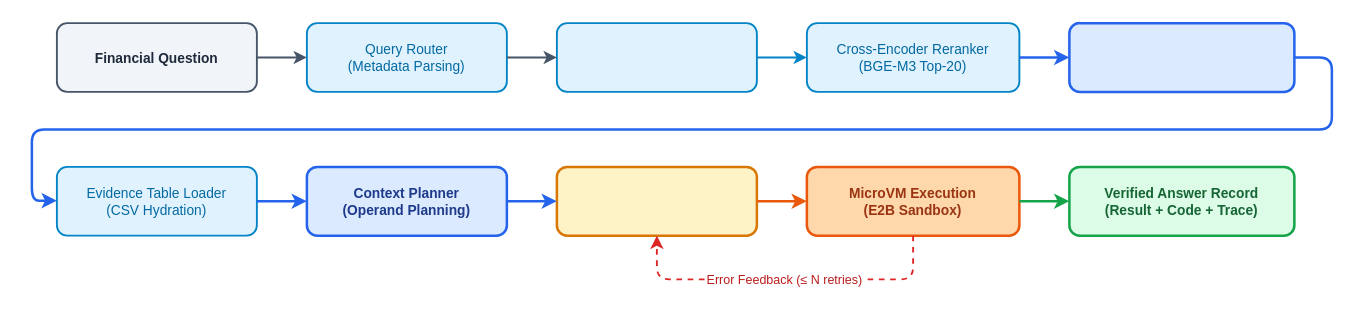
Some shapes in this 1364 by 311 pixel diagram are drawn without their labels. The centre of each missing label's shape, as x and y in pixels:
Code Synthesizer (Pandas + AST Linter): point 656,200
Hybrid Retriever (Dense + BM25 RRF): point 656,57
Table Selection Agent (Scouts + Concept Arbiter): point 1181,56
